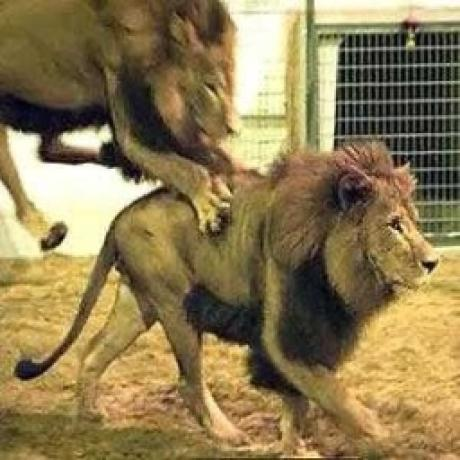Lion: (9, 143, 440, 442), (0, 0, 241, 252)
